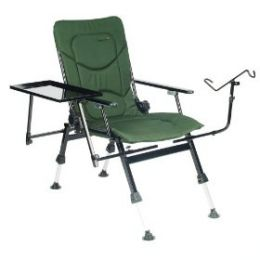chairs: (51, 17, 223, 241)
